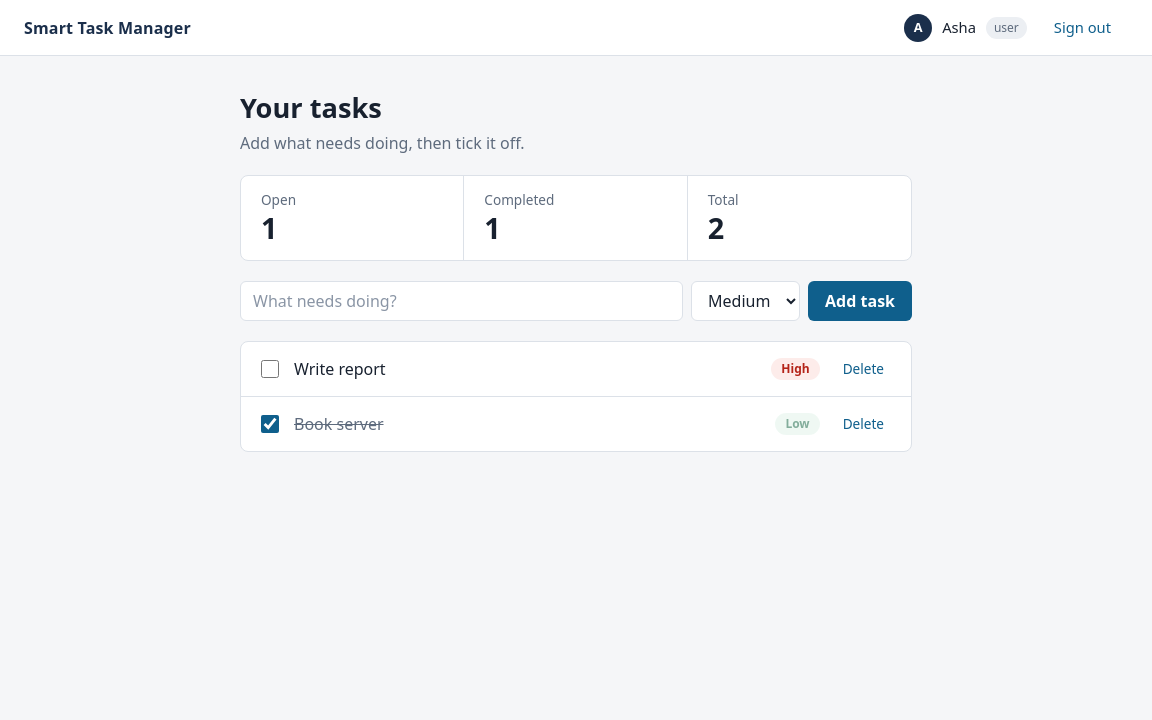
a rejected change is undone and the error is shown
Click the checkbox named "Mark \"Write report\" as done": (270, 369) x1=261 y1=360 x2=279 y2=378
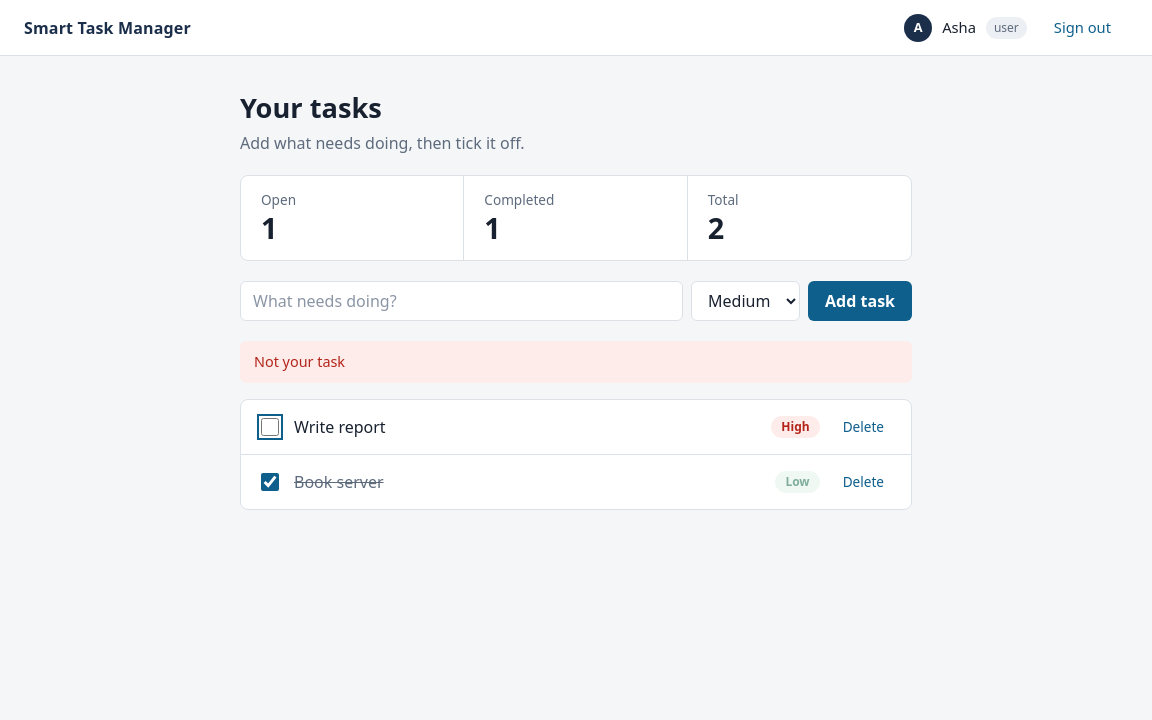
Check: the checkbox named "Mark \"Write report\" as done" is not checked, box x1=261 y1=418 x2=279 y2=436
Check: the message reads "Not your task", box x1=254 y1=352 x2=345 y2=371
